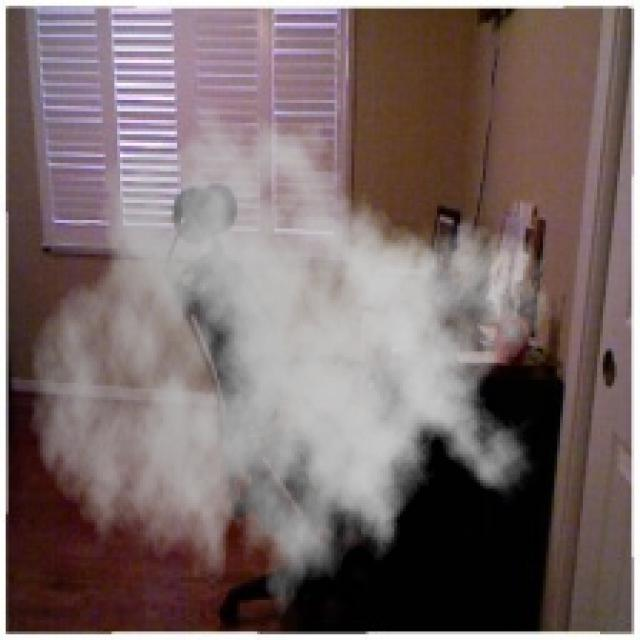smoke: (29, 89, 554, 637)
